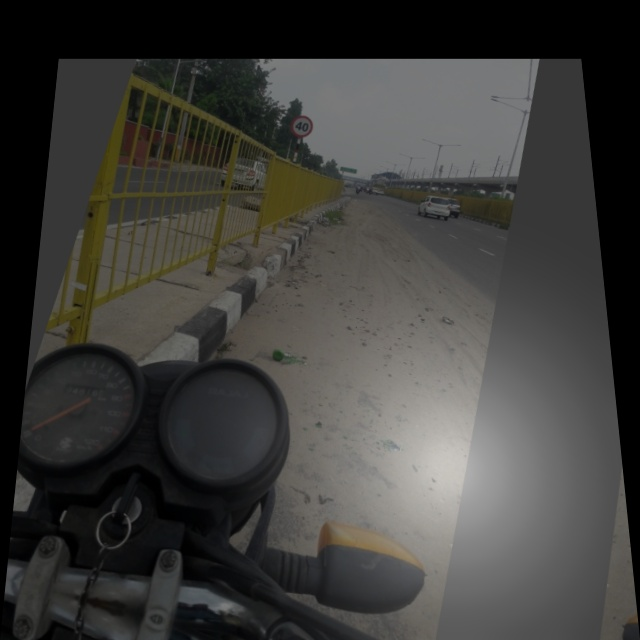Speed_Limit_40: (283, 110, 319, 142)
